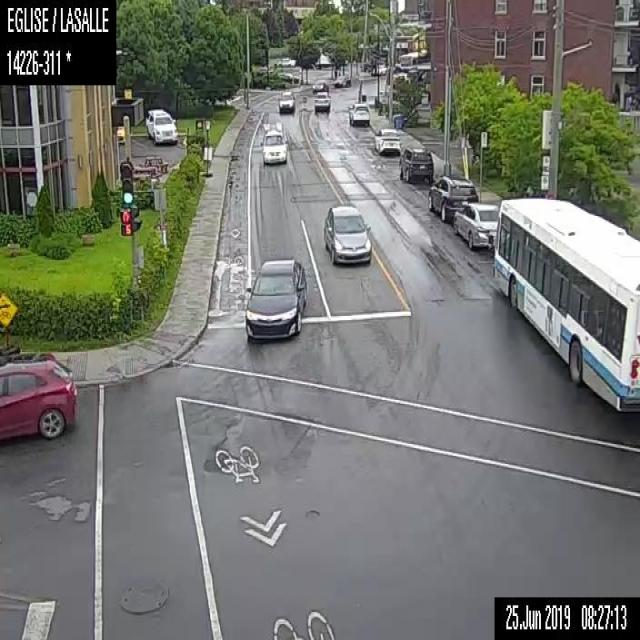bus: (487, 193, 639, 412)
vehicle: (0, 348, 79, 441), (244, 255, 306, 341), (321, 203, 372, 267), (426, 170, 478, 223), (452, 197, 501, 250), (396, 146, 434, 183), (143, 106, 178, 145), (259, 122, 287, 164), (373, 125, 400, 153), (347, 100, 371, 127), (277, 88, 295, 112), (313, 91, 331, 115), (334, 72, 352, 87), (312, 76, 329, 91), (277, 55, 295, 65)
